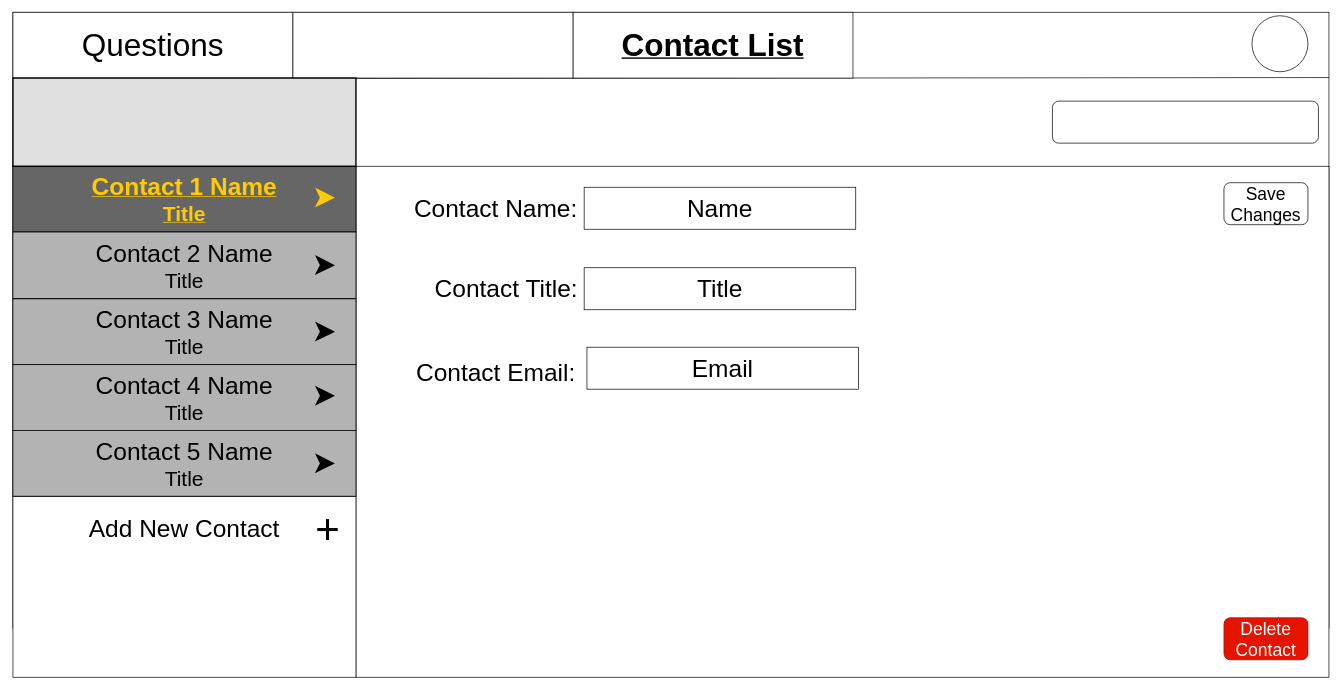
This 1342x690 diagram has some shape labels left out. Here are the shapes that lost their labels. From the top down, the centre of each, then its label:
At pixel 432 45: "Entities".
At pixel 1279 43: "TEMP".
At pixel 184 122: "Contacts".
At pixel 1185 121: "Search".
